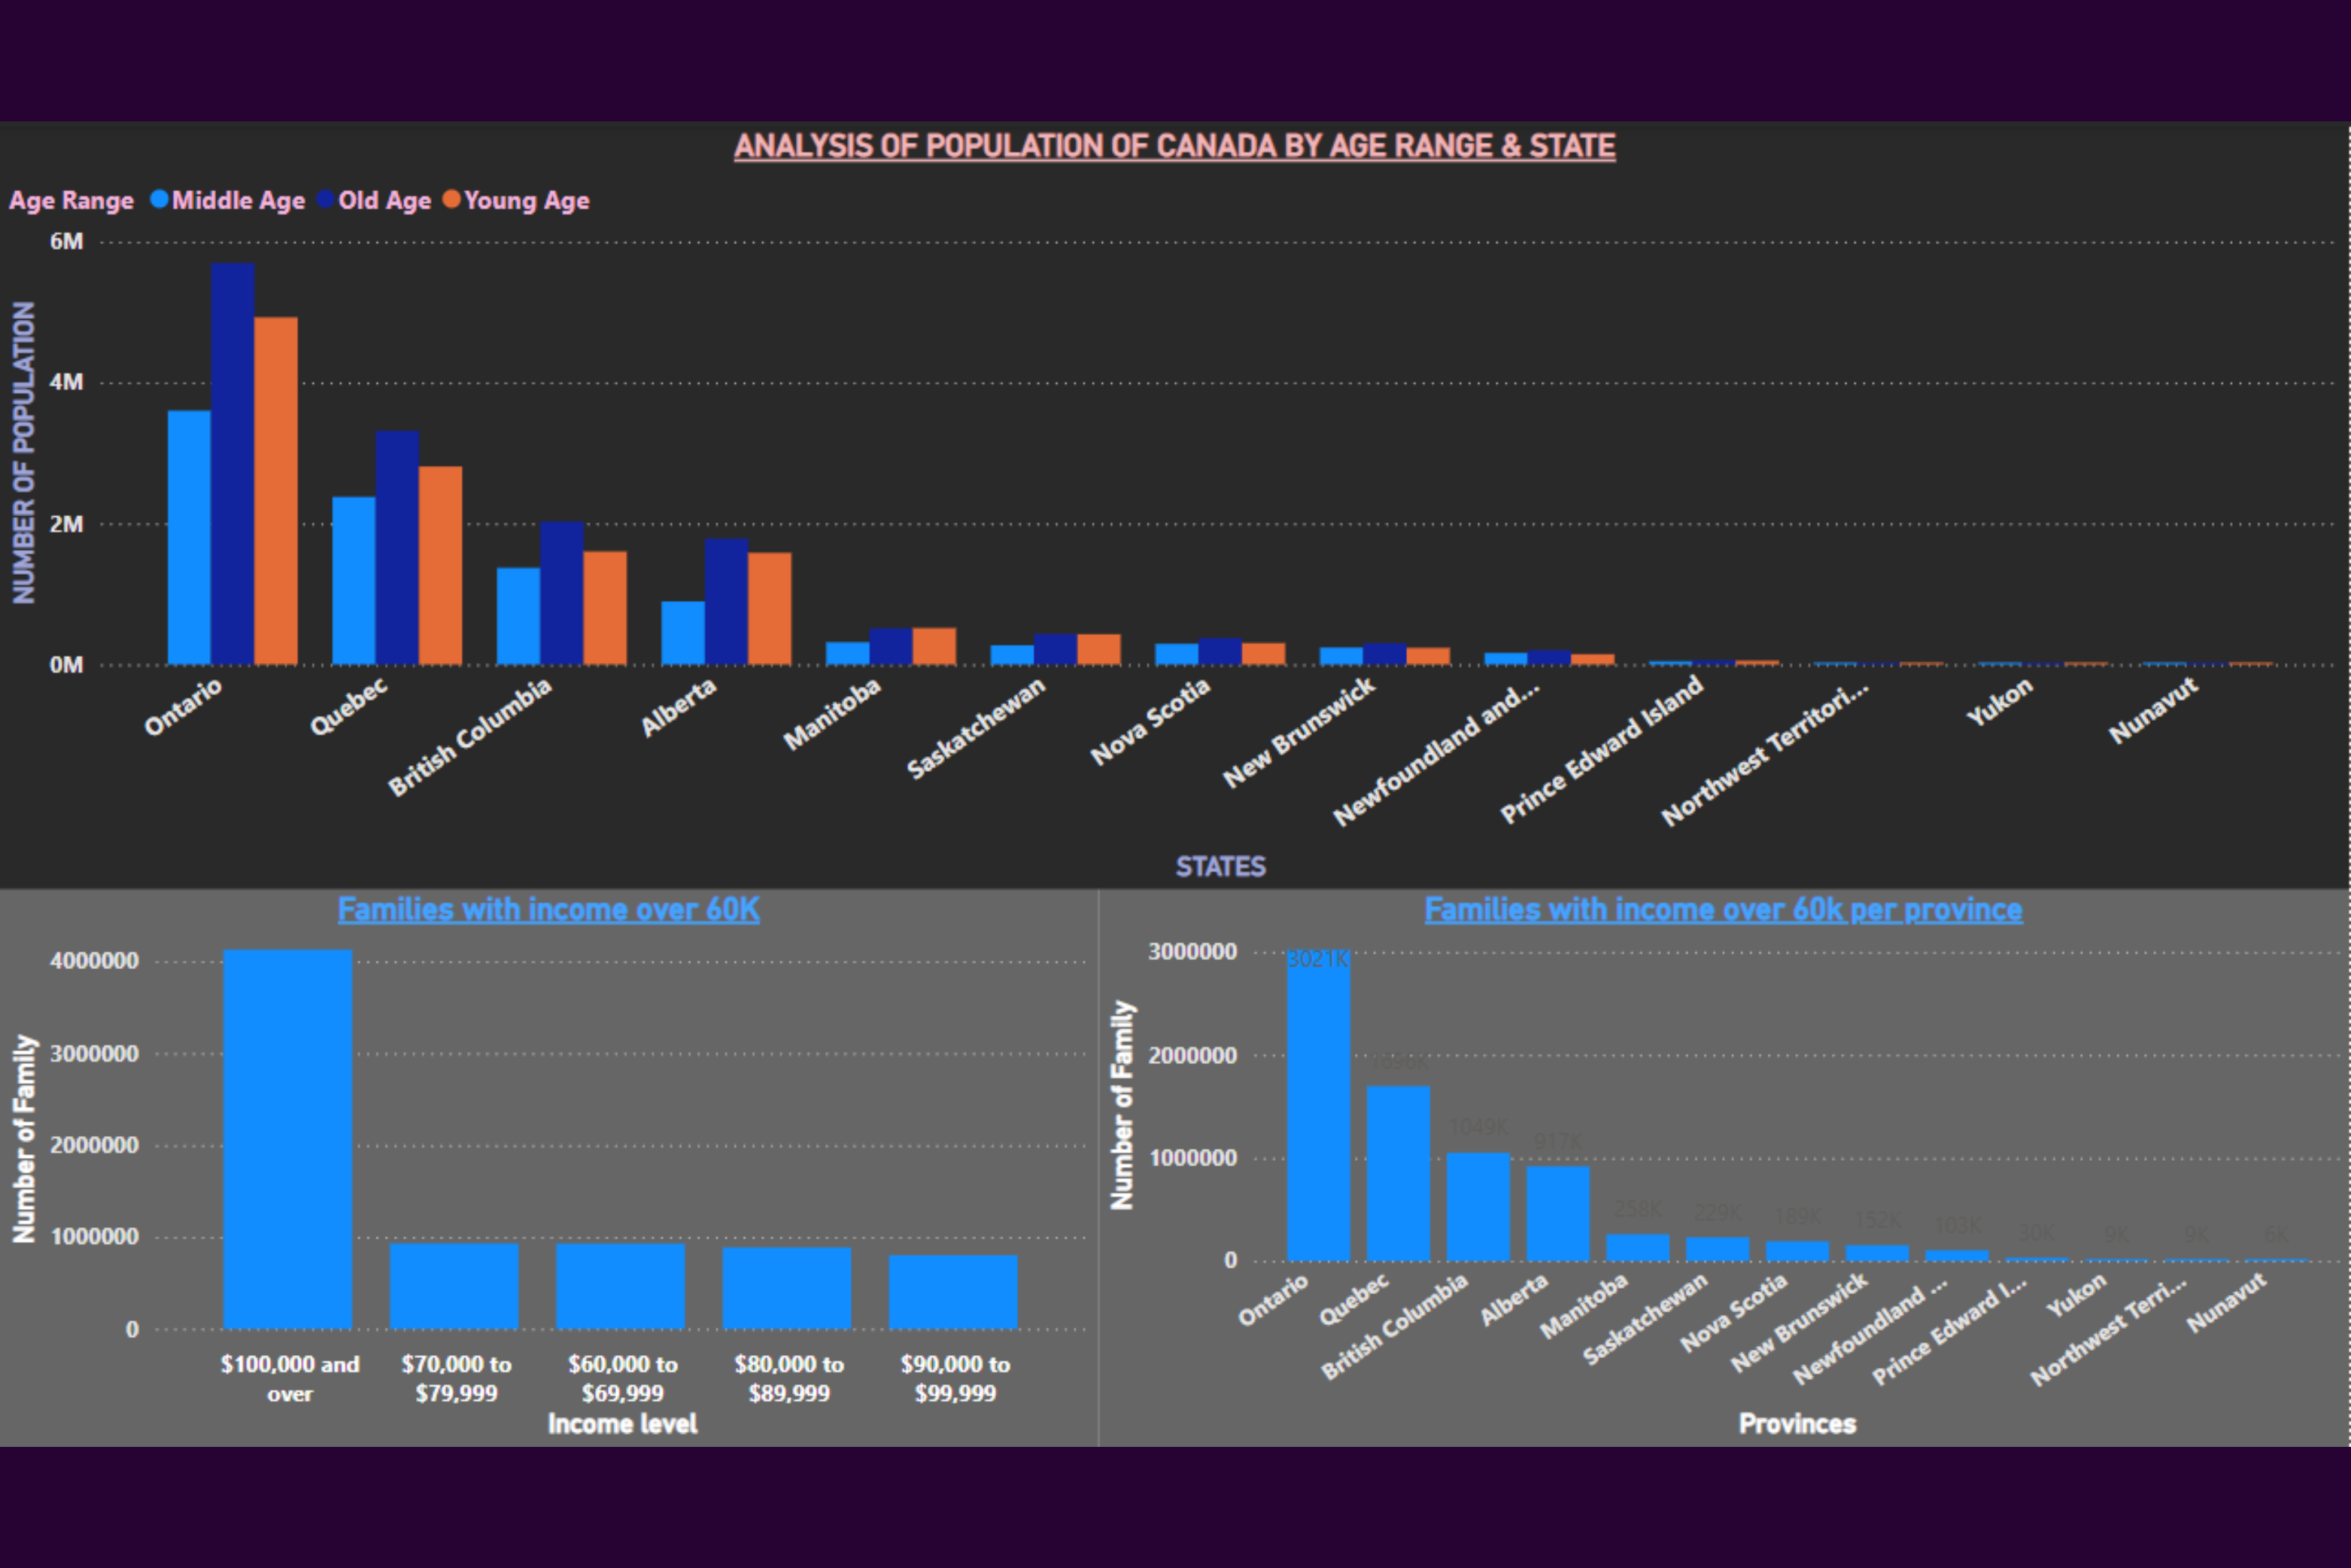

The page's visual inventory and layout, read from the dashboard file:
{"tool":"powerbi","page":{"name":"Analysis of Population by Age range & state","canvas":[1280,720],"ordinal":1},"visuals":[{"type":"clusteredColumnChart","title":"ANALYSIS OF POPULATION OF CANADA BY AGE RANGE & STATE","fields":{"Category":["Age_Census.GEO"],"Y":["Sum(Age_Census.VALUE)"],"Series":["Age_Census.Age Range"]},"box":[0,0,1280.3,415.8],"z":0},{"type":"clusteredColumnChart","title":"Families with income over 60K","fields":{"Category":["Income Level.Census family after-tax income groups"],"Y":["Sum(Income Level.VALUE)"]},"box":[0,415.8,598.3,304.6],"z":1000},{"type":"clusteredColumnChart","title":"Families with income over 60k per province","fields":{"Category":["Income Level.GEO"],"Y":["Sum(Income Level.VALUE)"]},"box":[598.3,415.8,682,304.6],"z":2000}]}

Visuals, with their boxes on the page's 1280x720 design canvas (x1, y1, x2, y2). These are canvas units, not pixel positions in the 2351x1568 screenshot, which may show the page scaled, cropped or inside an application window:
"ANALYSIS OF POPULATION OF CANADA BY AGE RANGE & STATE" clusteredColumnChart: BBox(0, 0, 1280, 416)
"Families with income over 60K" clusteredColumnChart: BBox(0, 416, 598, 720)
"Families with income over 60k per province" clusteredColumnChart: BBox(598, 416, 1280, 720)
